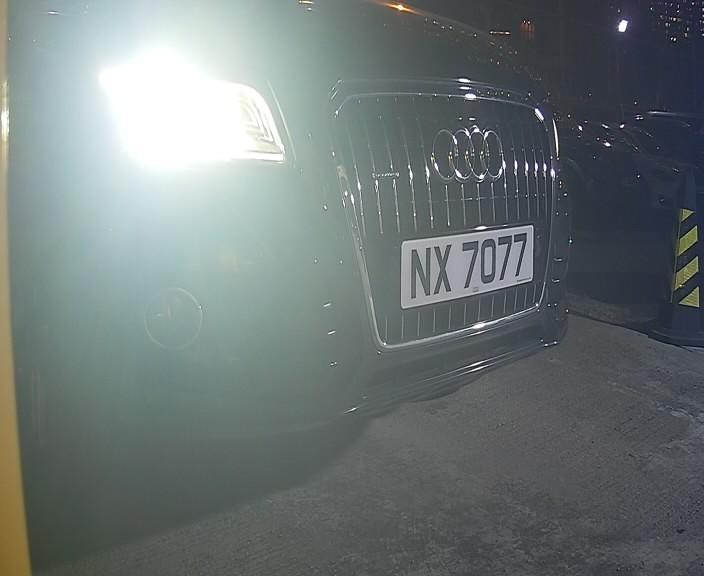Car: (19, 13, 648, 492)
License Plate: (387, 209, 535, 314)
